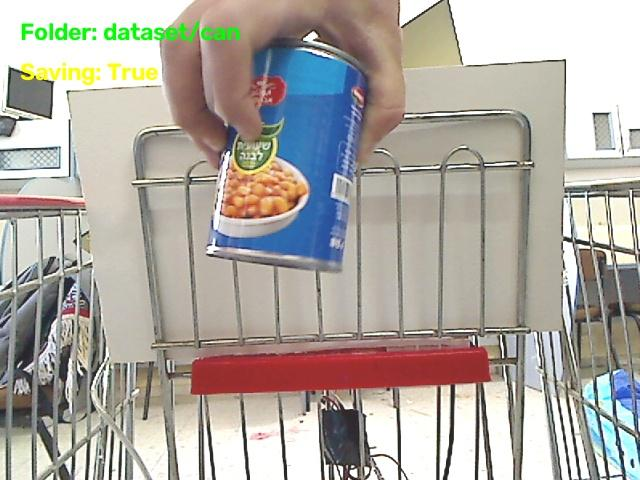can: (207, 40, 366, 271)
